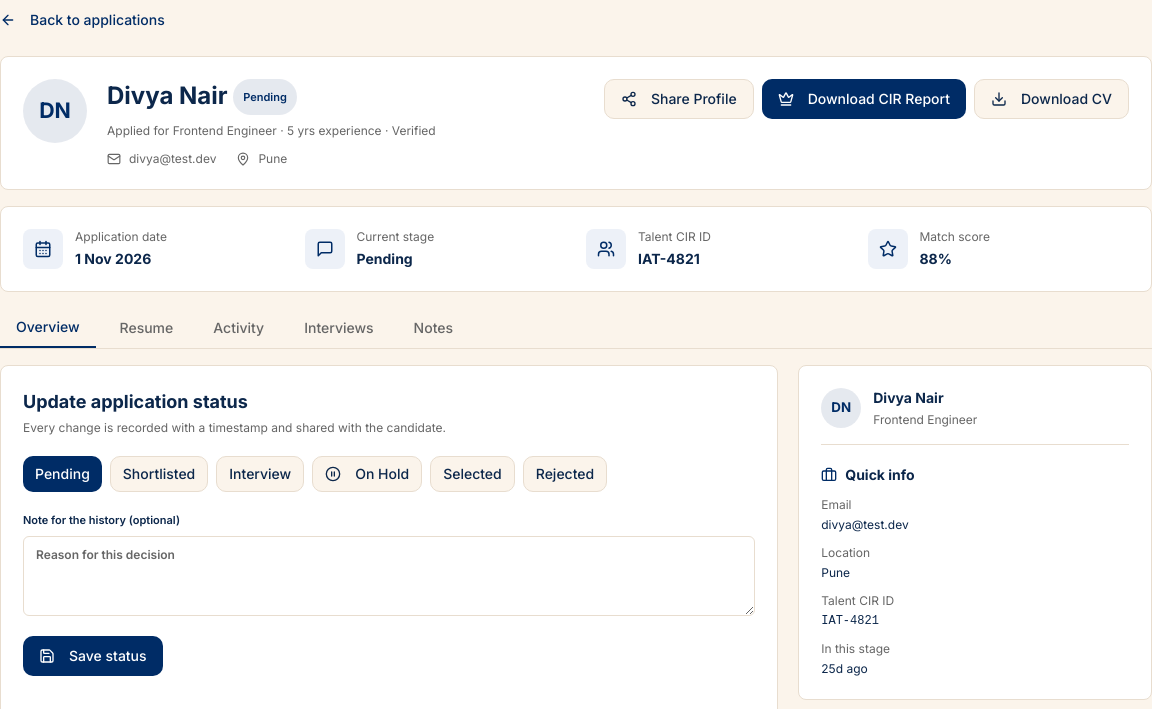
Applicant detail and CIR report access › falls back to the payment flow when the server refuses the report
Click the button with aria-label "Unlock and download CIR report": (864, 99) [762,79,966,119]
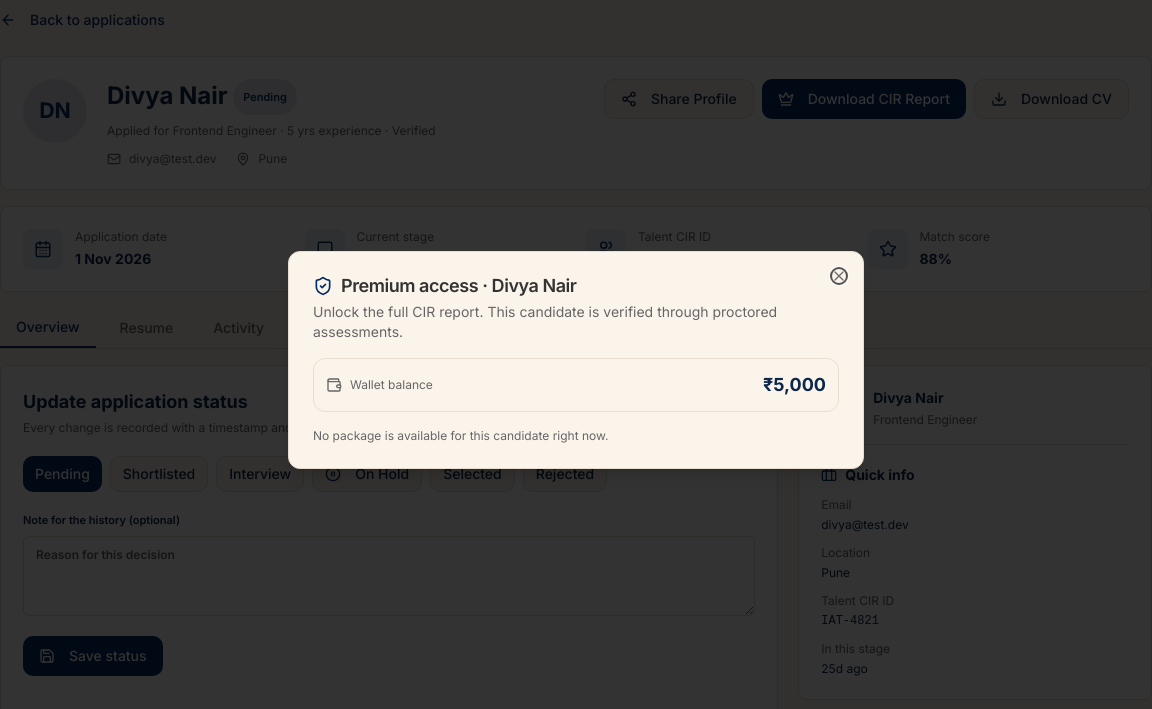
Expected: the heading "Premium access · Divya Nair" is shown, [313,275,576,296]
